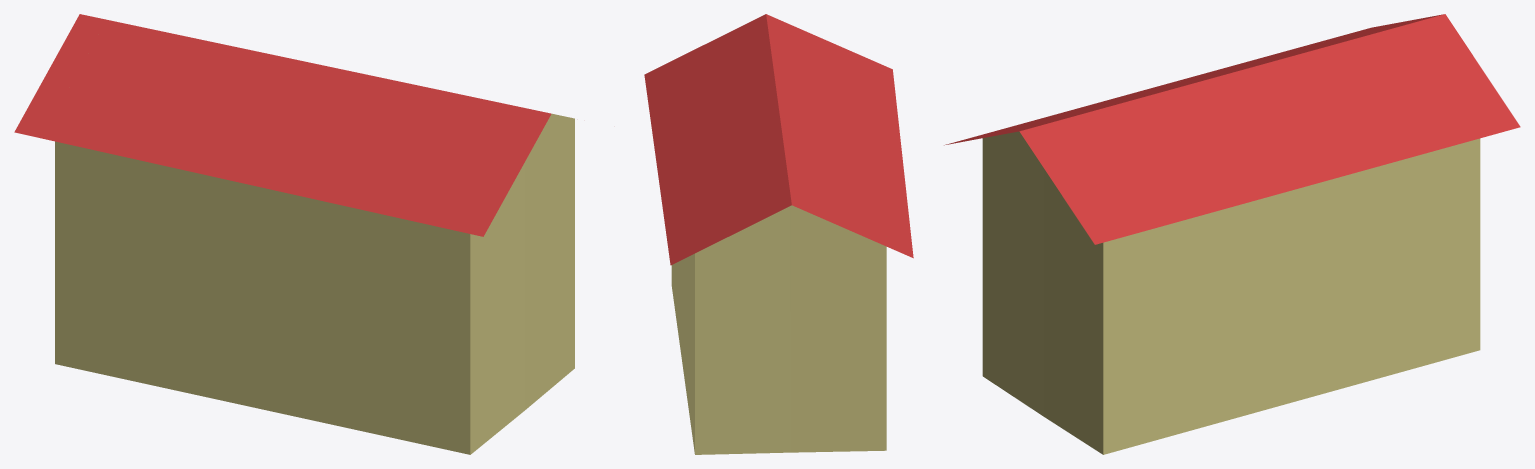
The picture shows the model from 3 angles, left to right: view 1: azimuth 30°, elevation 25°; view 2: azimuth 150°, elevation 25°; view 3: azimuth 270°, elevation 25°; orthographic projection. The views are drawn at different scales.
Parts seen in each view (by area): view 1: group_5, group_3, group_4; view 2: group_5, group_3, group_4; view 3: group_5, group_3, group_4.
Boxes of the visible parts, left/top/right/bottom form: group_5: left=55, top=113, right=574, bottom=454; group_3: left=16, top=20, right=551, bottom=236; group_4: left=14, top=14, right=269, bottom=161; group_5: left=671, top=205, right=886, bottom=454; group_3: left=644, top=14, right=913, bottom=265; group_4: left=733, top=20, right=913, bottom=258; group_5: left=982, top=131, right=1480, bottom=454; group_3: left=944, top=14, right=1520, bottom=244; group_4: left=1020, top=14, right=1456, bottom=242.
Size of the model in its own units: 17.44 by 19.77 by 11.02.
